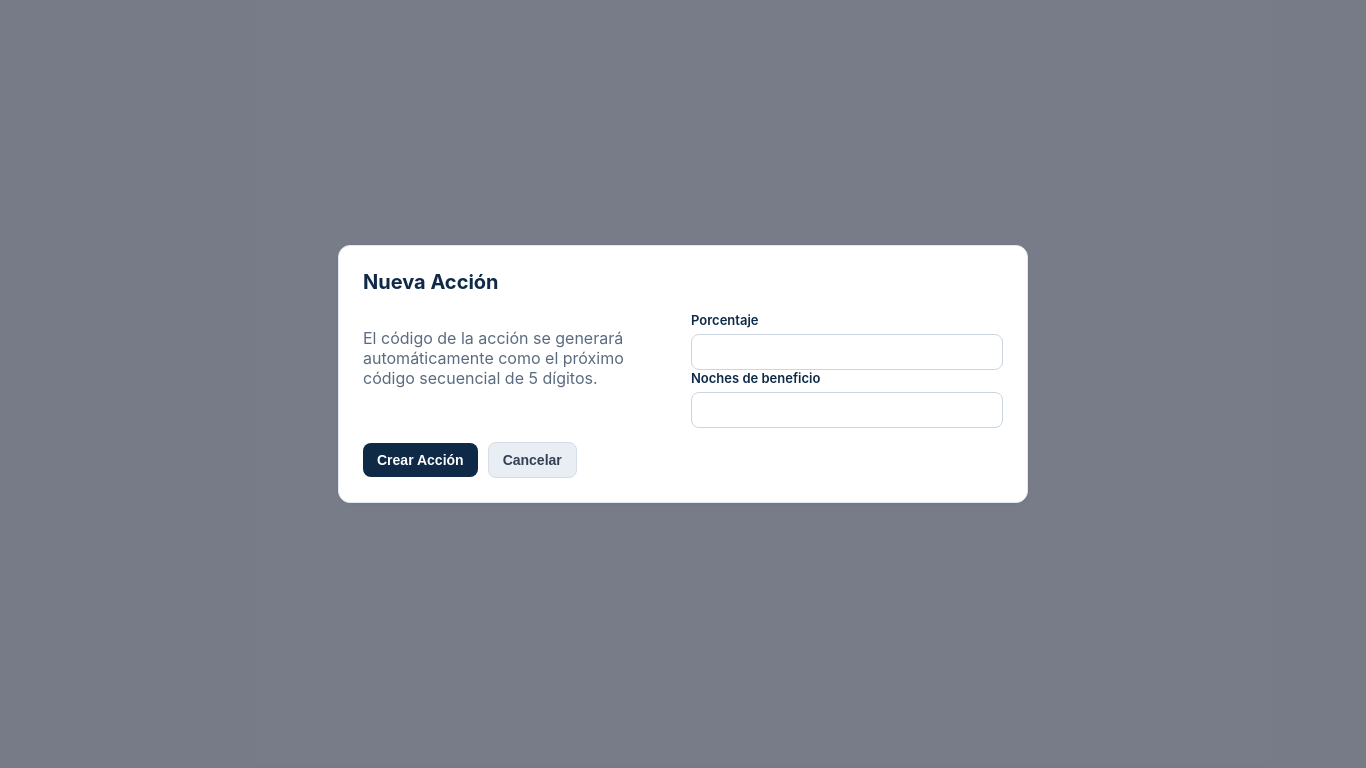
AccionModal - Percentage › blocks creation with an empty percentage
Click the button "Crear Acción" at (420, 460), box [363,443,478,477]
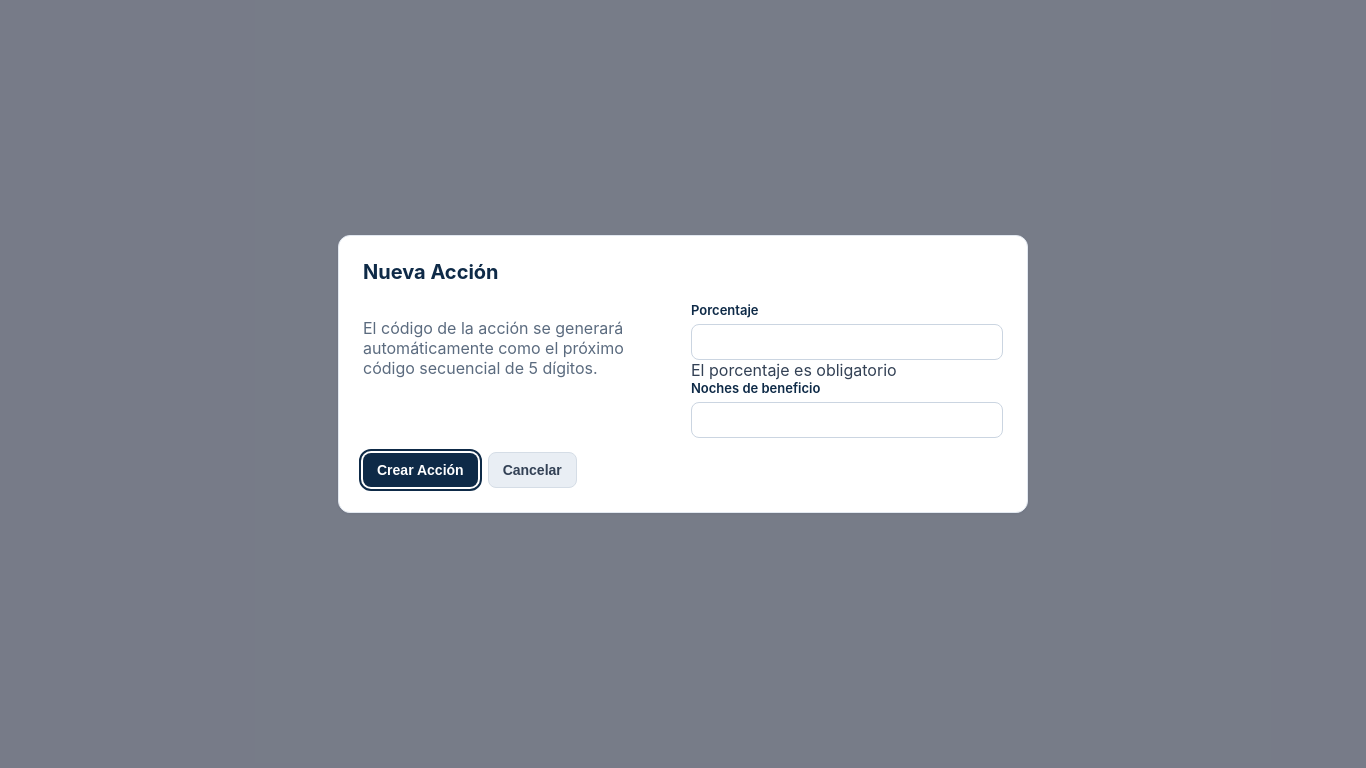
Now the text "El porcentaje es obligatorio" is shown, box [691,360,897,380]
